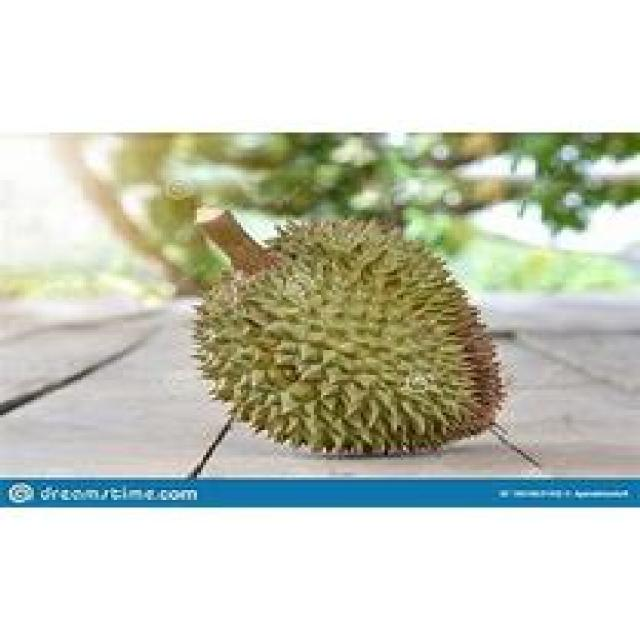fruit: (166, 195, 514, 467)
